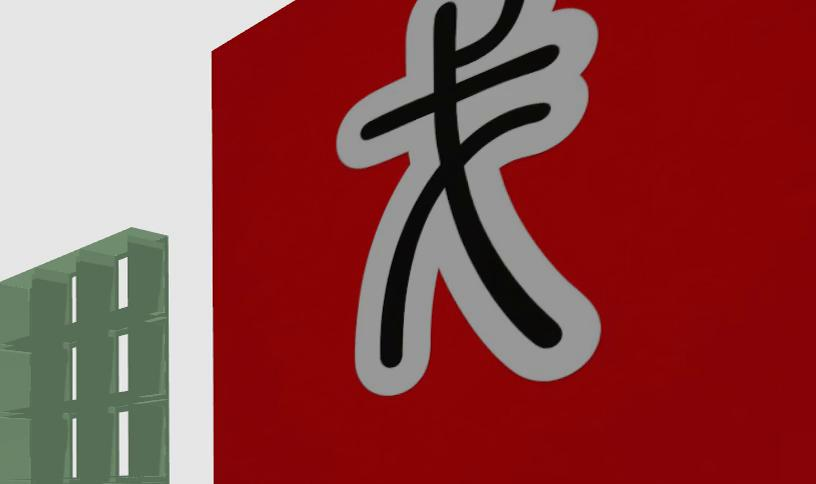KFS_FAKE: (214, 0, 815, 484), (336, 0, 599, 395)
